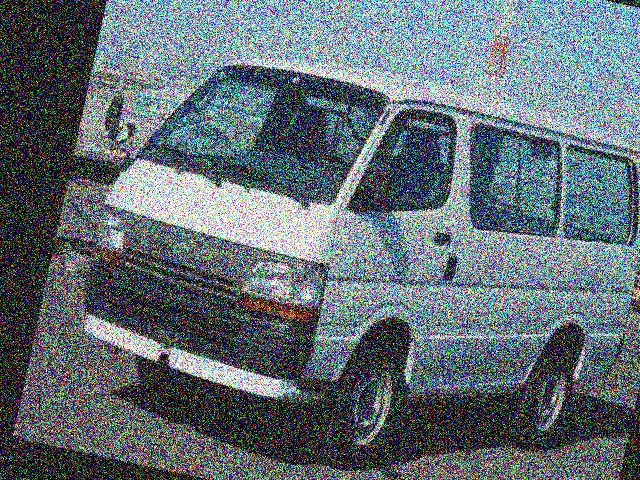van: (59, 29, 640, 480)
